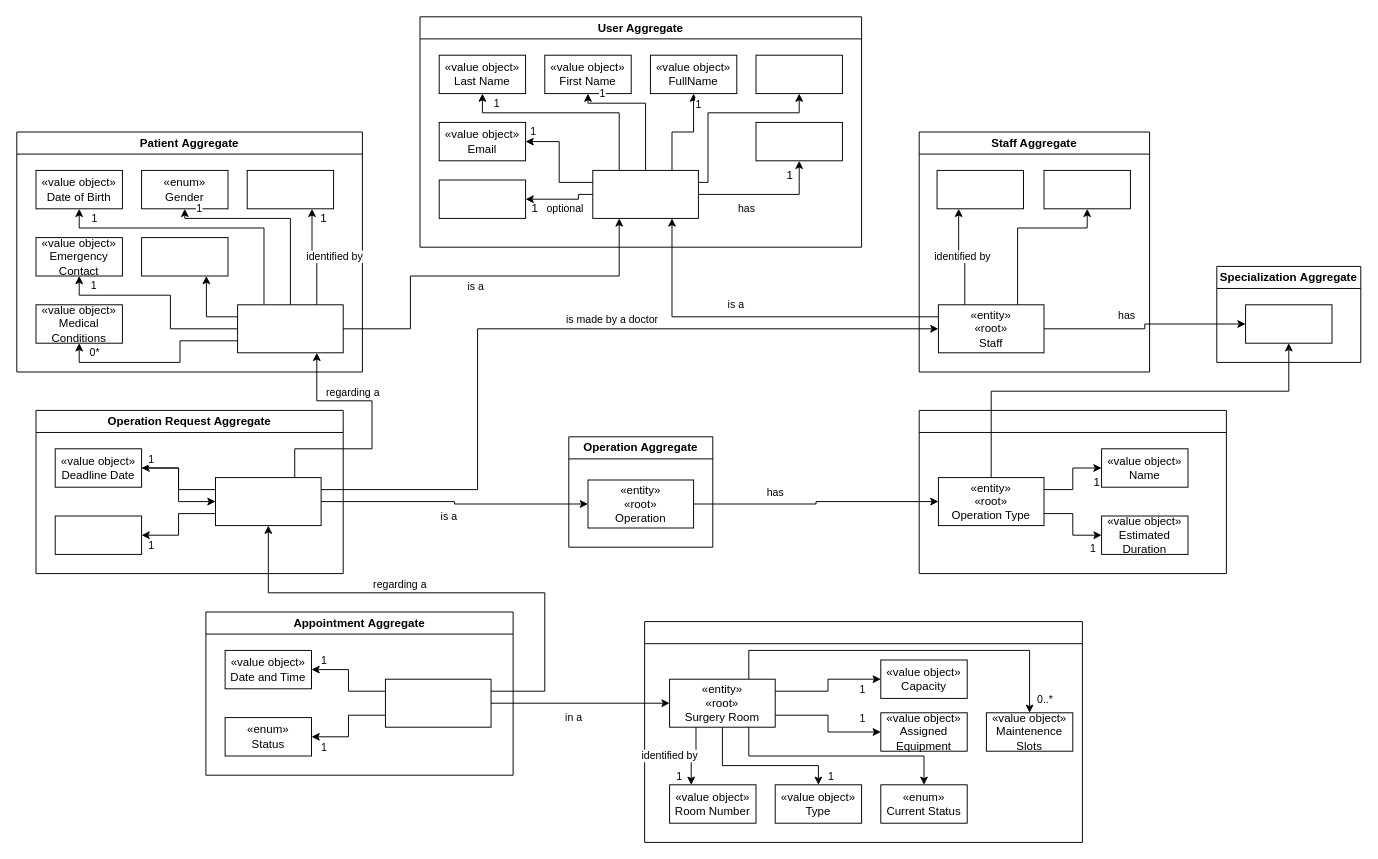
Some shapes in this 1378 by 859 pixel diagram are drawn without their labels. Each missing label, with the box of its shape:
Operation Type Aggregate: (918, 409, 1226, 574)
Surgery Room Aggregate: (644, 621, 1082, 842)
«entity » «value object» Specialization: (1245, 304, 1332, 343)
«entity» «root» Appoin tment: (384, 678, 491, 727)
«entity» «root» Operation Request: (215, 477, 321, 526)
«entity» «root» Patient: (237, 304, 343, 353)
«entity» «root» User: (592, 169, 698, 218)
«enum» Role: (755, 121, 842, 161)
«value object» Appointment History: (141, 237, 228, 276)
«value object» Availability Slots: (1043, 169, 1130, 209)
«value object» License Number: (936, 169, 1023, 209)
«value object» Medical Record Number: (246, 169, 334, 209)
«value object» Phone Number: (438, 179, 526, 218)
«value object» Priority: (54, 515, 142, 554)
«value object» UserName: (755, 54, 842, 94)
